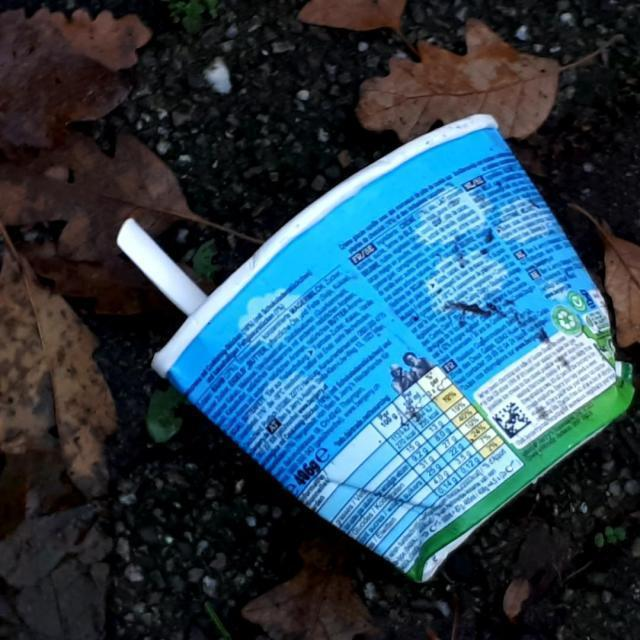Paper: (147, 110, 639, 586)
